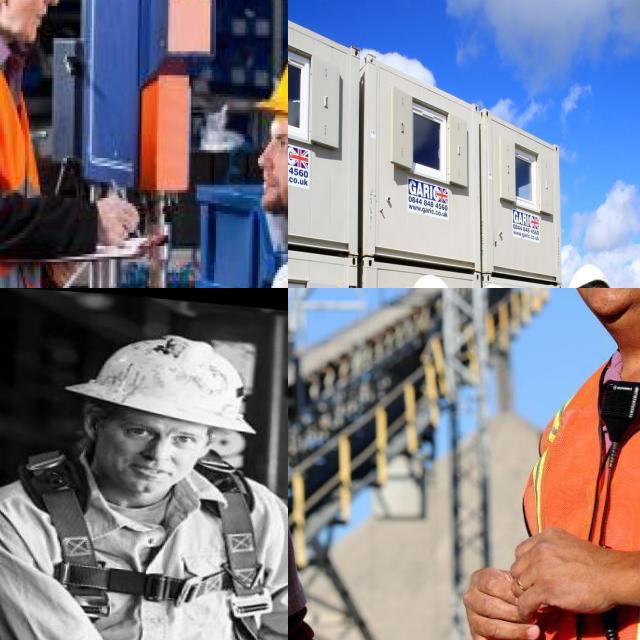Harness: (20, 451, 273, 618)
face_nomask: (250, 128, 288, 222), (0, 0, 65, 40)
hand_noglove: (518, 523, 626, 625), (441, 561, 549, 640), (86, 180, 147, 260)
head_helmet: (261, 51, 288, 173), (561, 262, 612, 288), (407, 274, 460, 288)
person: (464, 288, 640, 640), (0, 0, 86, 288), (209, 27, 288, 288)
vest: (510, 331, 640, 640), (0, 11, 44, 288)
